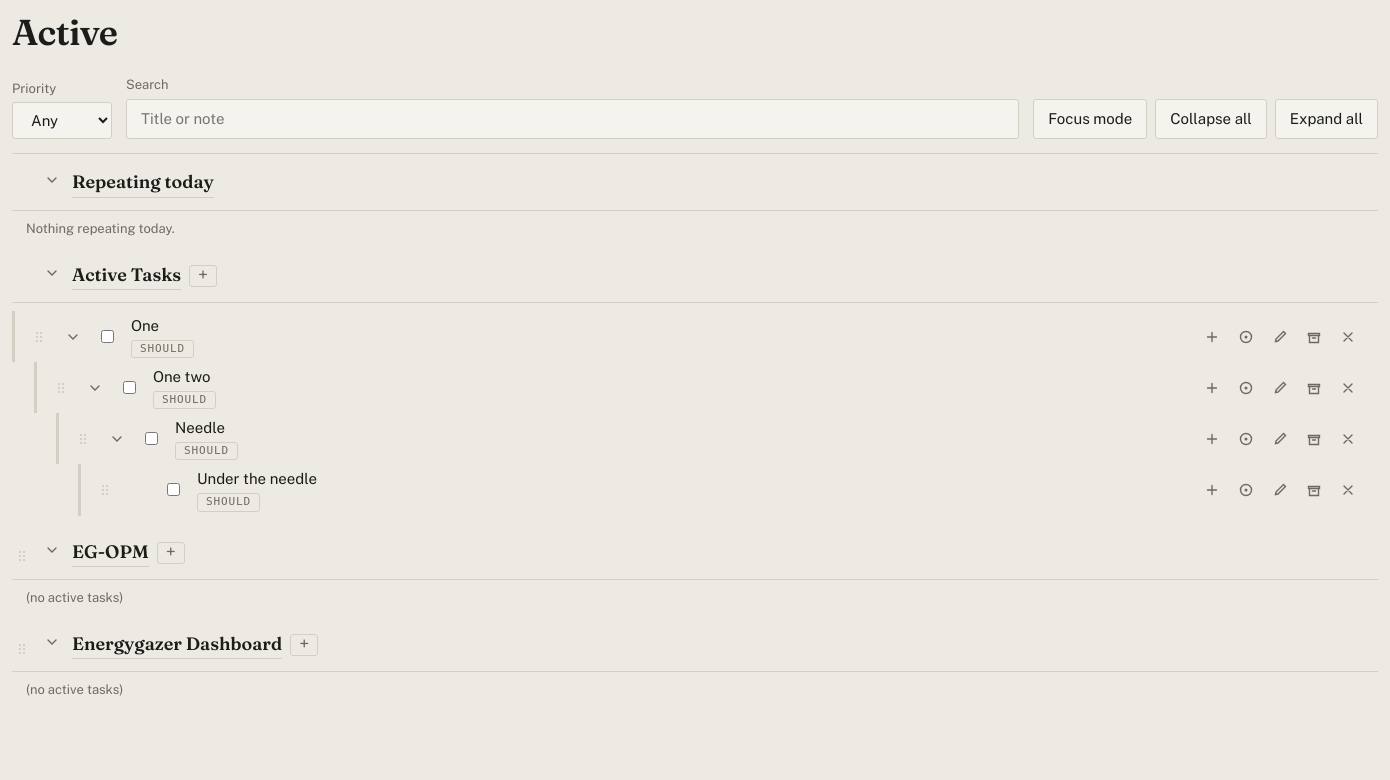
Test: searching opens the trail but not the hit › folds the hit itself, so its subtree does not bury it
Expected: the text "Needle" is shown, [175,419,225,436]
In the field labelled "Search": (573, 119) [126,99,1019,139], type "needle"
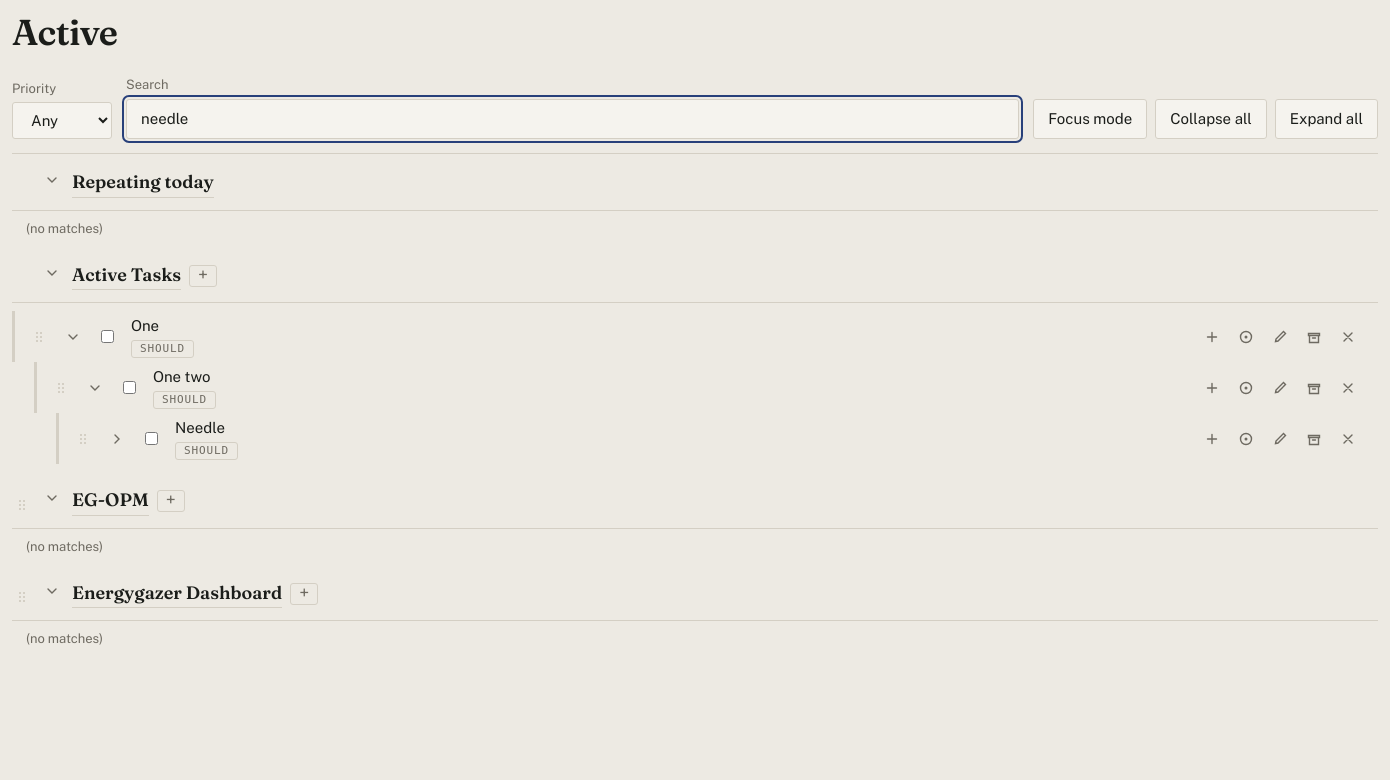
Now the text "Under the needle" is gone
